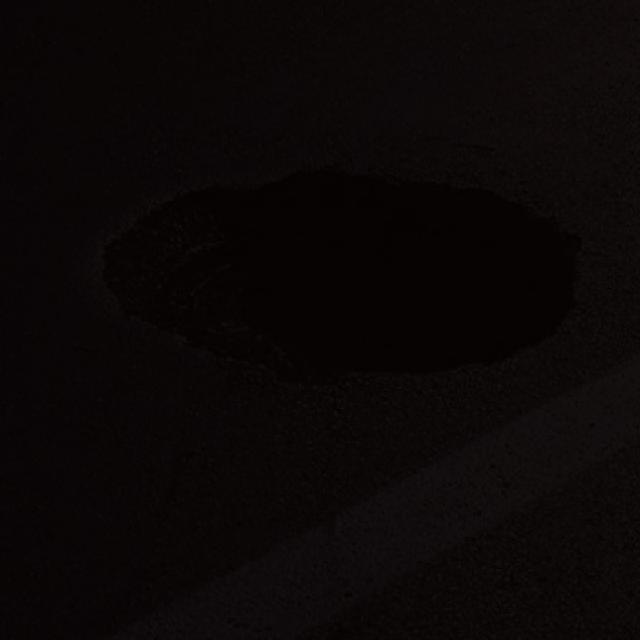Pothole: (95, 156, 592, 396)
